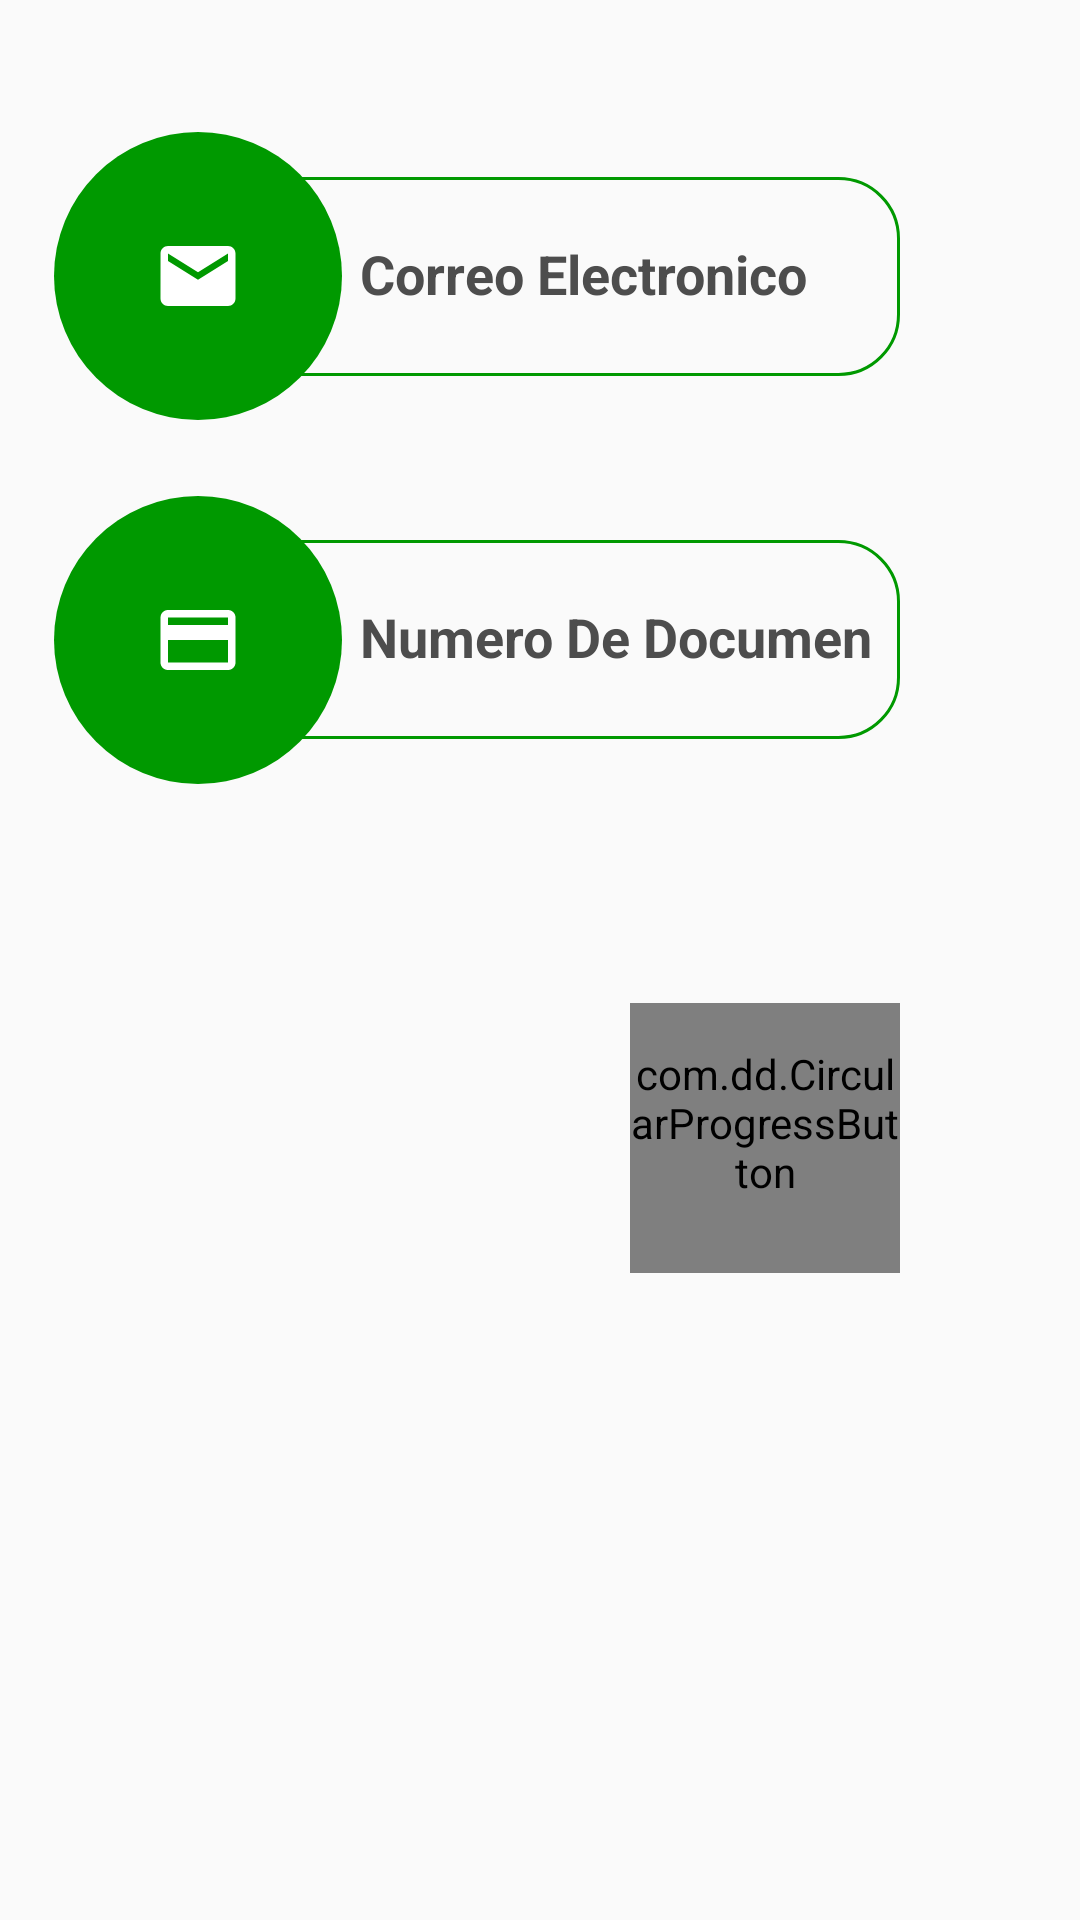

Icon bounding boxes for this 1080 x 1920 phone screenshot, format bbox(x1, y1, x2, y2):
arroba: bbox(54, 132, 342, 420)
cedula: bbox(54, 496, 342, 784)
